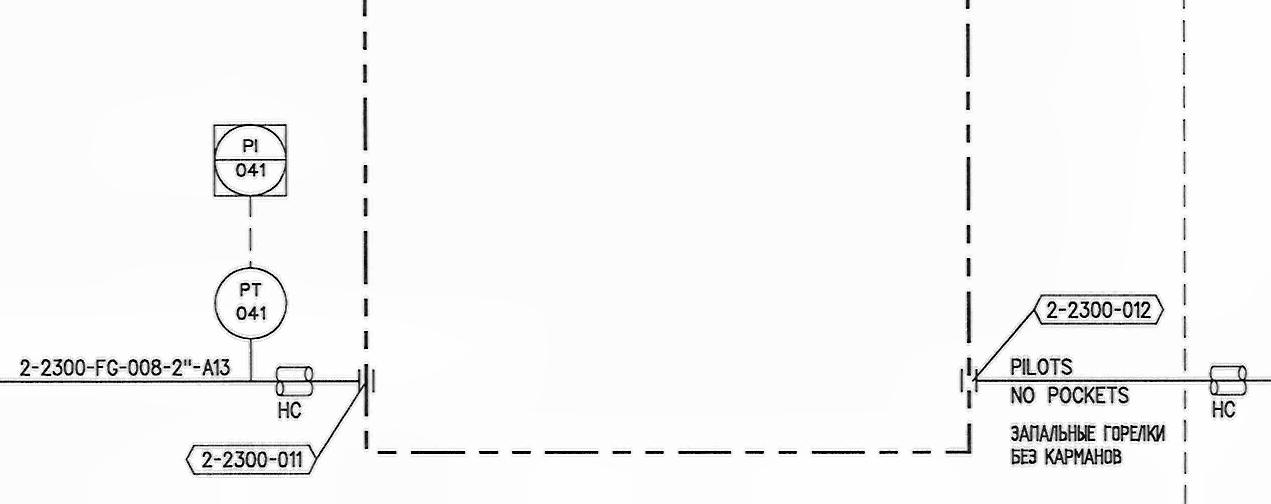DCS ACCESSIBLE: (207, 120, 291, 201)
DUPLEX RECEPTACLE: (1203, 362, 1249, 399), (274, 365, 316, 402)
FIELD INSTRUMENT: (210, 265, 295, 342)
